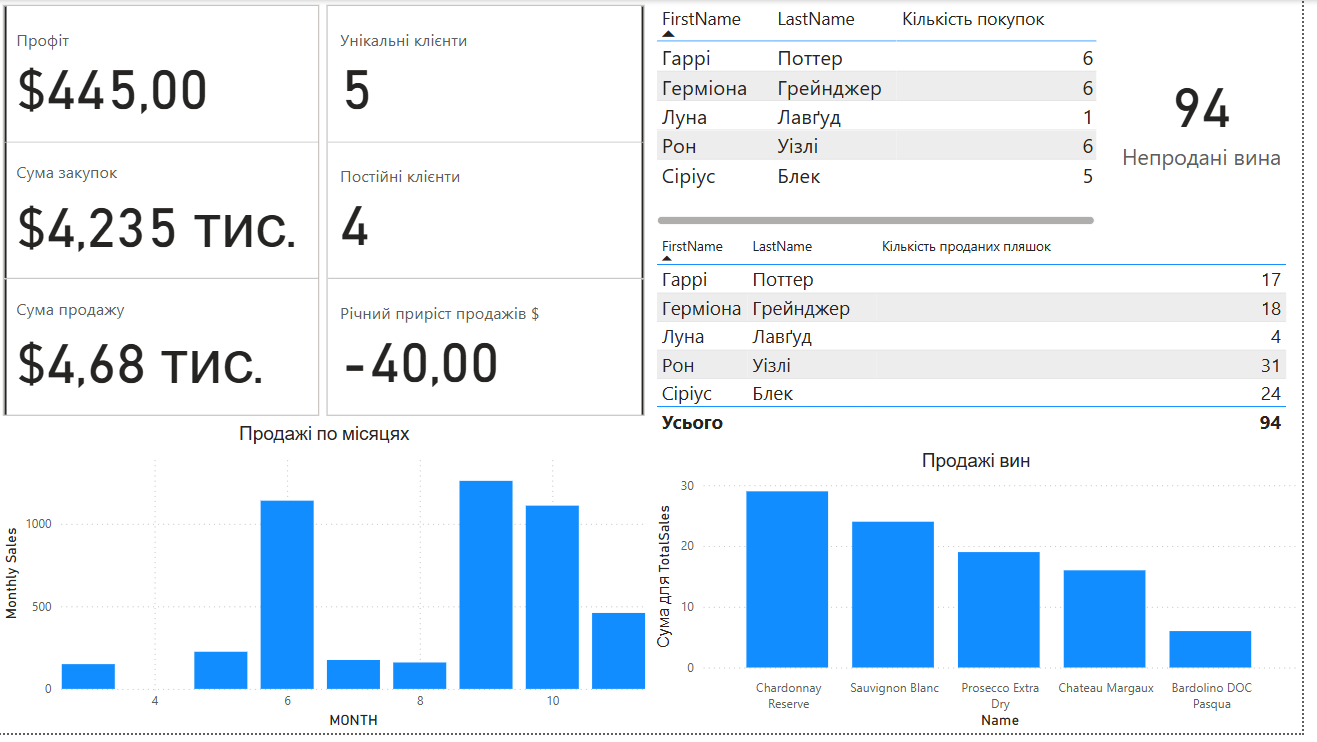

The page's visual inventory and layout, read from the dashboard file:
{"tool":"powerbi","page":{"name":"Сторінка 1","canvas":[1280,720],"ordinal":0},"visuals":[{"type":"clusteredColumnChart","title":"Продажі по місяцях ","fields":{"Category":["Calendar sales.MONTH"],"Y":["_measure.Monthly Sales"]},"box":[0,414.7,640.5,305.5],"z":0},{"type":"cardVisual","fields":{"Data":["_measure.Profit","_measure.Purchase Value","Sales.Total Sales"]},"box":[0,0,320.2,414.7],"z":1000},{"type":"cardVisual","fields":{"Data":["_measure.Unique Customers","_measure.Loyal Customers","_measure.Yearly Sales Growth"]},"box":[317.8,0,322.7,414.7],"z":2000},{"type":"tableEx","fields":{"Values":["Customers.FirstName","Customers.LastName","Customers.CountCustomersSales"]},"box":[640.5,0,442.9,225.8],"z":3000},{"type":"card","fields":{"Values":["Wine.Unsold Wines"]},"box":[1083.4,1.2,196.3,224.5],"z":4000},{"type":"clusteredColumnChart","title":"Продажі вин","fields":{"Category":["Top 5 Wines.Name"],"Y":["Top 5 Wines.TotalSales"]},"box":[640.5,441.7,639.3,278.5],"z":5000},{"type":"tableEx","fields":{"Values":["Customer Sales Analysis.FirstName","Customer Sales Analysis.LastName","Customer Sales Analysis.QuantitySold"]},"box":[640.5,225.8,639.3,216],"z":6000}]}

Visuals, with their boxes in screenshot pixels (x1, y1, x2, y2), scaled from the page's 1280x720 canvas onto the 1317x742 screenshot:
"Продажі по місяцях " clusteredColumnChart: 0/427/659/741
cardVisual - _measure.Profit x _measure.Purchase Value: 0/0/329/427
cardVisual - _measure.Unique Customers x _measure.Loyal Customers: 327/0/659/427
tableEx - Customers.FirstName x Customers.LastName: 659/0/1115/233
card - Wine.Unsold Wines: 1115/1/1316/233
"Продажі вин" clusteredColumnChart: 659/455/1316/741
tableEx - Customer Sales Analysis.FirstName x Customer Sales Analysis.LastName: 659/233/1316/455
